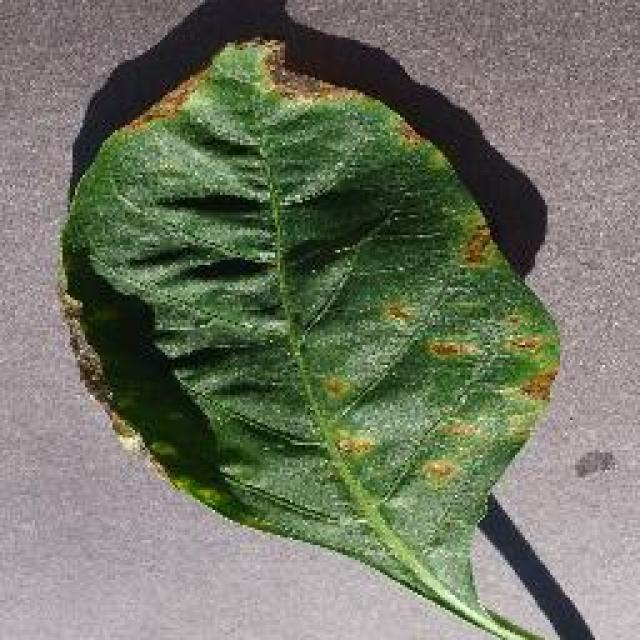Chilli_Bacterial_Spot: (55, 32, 565, 610), (305, 220, 557, 502), (325, 420, 383, 468), (457, 222, 495, 268), (385, 110, 425, 150), (515, 365, 557, 403), (415, 455, 460, 487), (332, 430, 378, 460), (435, 412, 480, 442), (425, 335, 470, 363), (503, 328, 545, 358), (377, 295, 415, 327), (315, 370, 353, 402)
